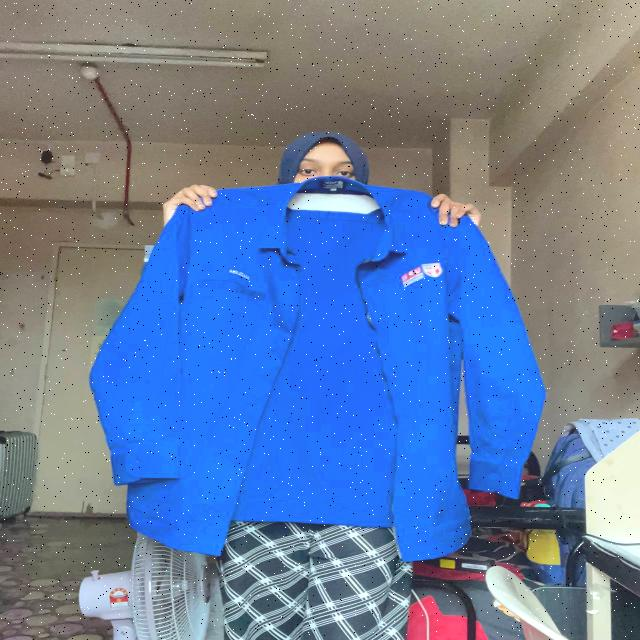person_without_labcoat: (90, 132, 543, 640)
